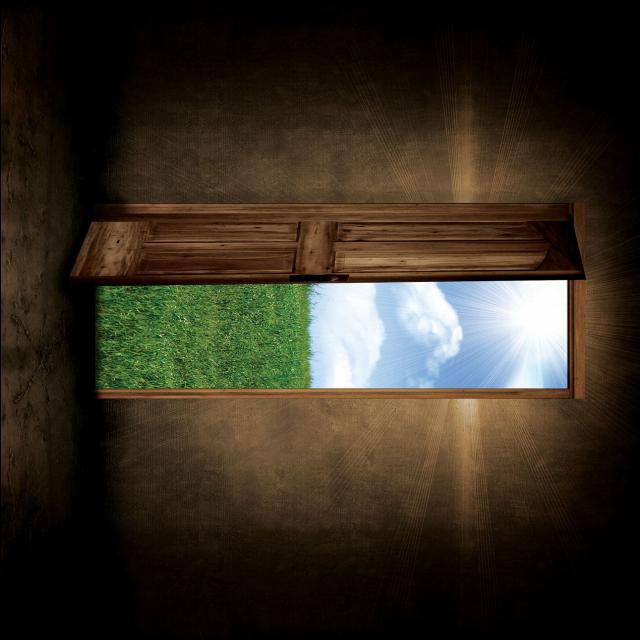open: (82, 204, 582, 398)
